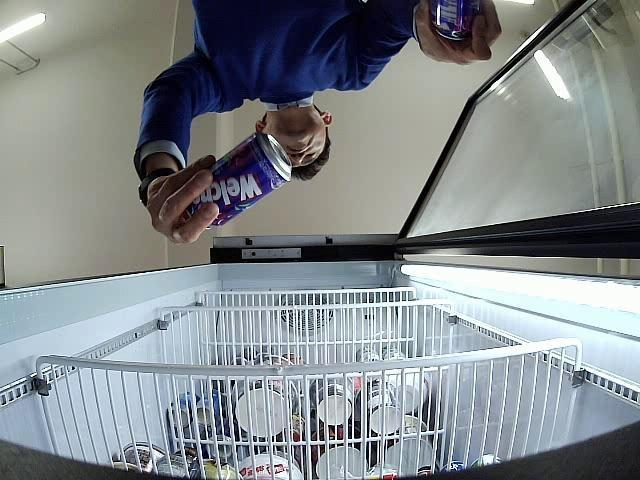14_welchsGrape: (184, 132, 293, 228), (431, 0, 484, 40)
